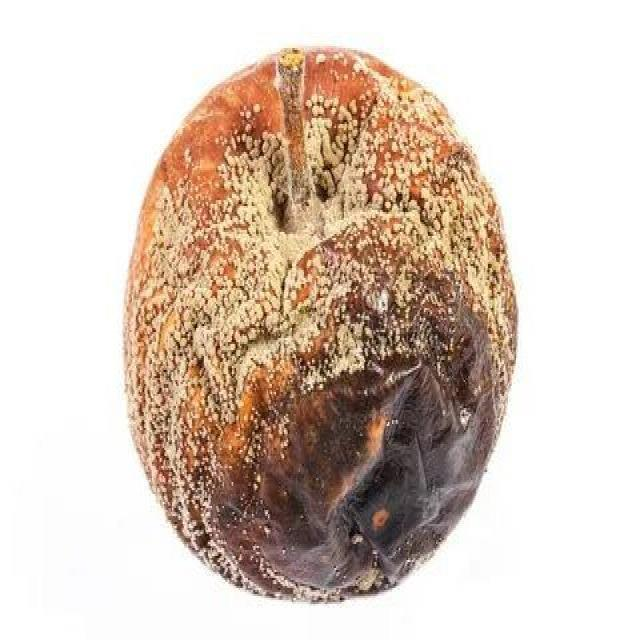Apple: (113, 40, 523, 610)
